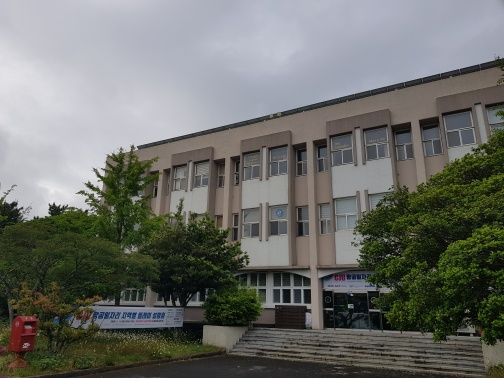Main Building of University: (117, 79, 504, 229), (221, 252, 490, 376)
